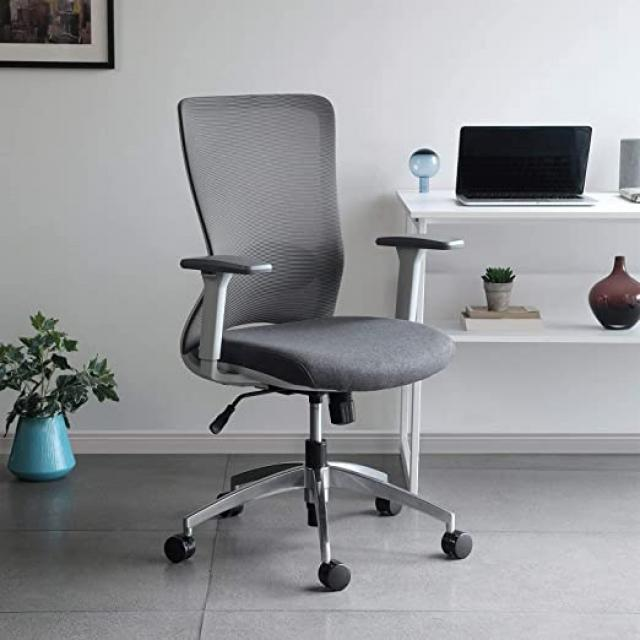chair: (152, 70, 490, 616)
